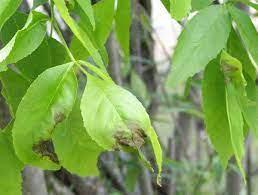root_rot: (13, 65, 171, 184)
